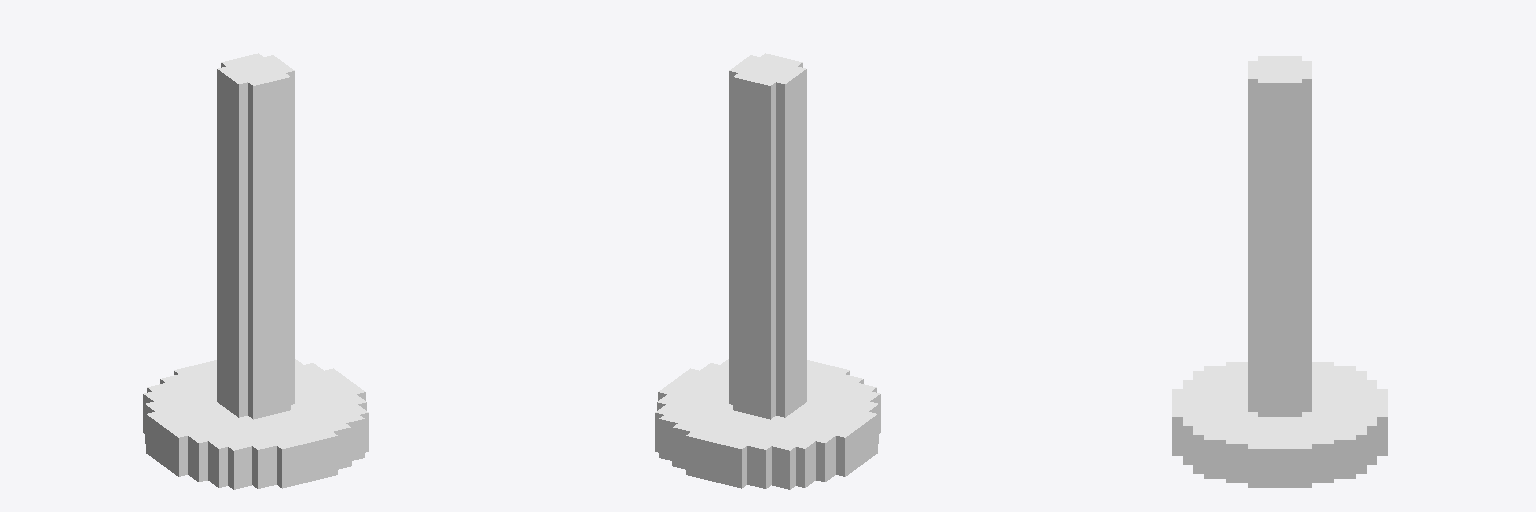
Rendered from SlammerMESH1.obj.
3 views of the same model, side by side, from view 1: azimuth 30°, elevation 25°; view 2: azimuth 150°, elevation 25°; view 3: azimuth 270°, elevation 25° (orthographic).
Parts seen in each view (by area): view 1: SlammerMESH1; view 2: SlammerMESH1; view 3: SlammerMESH1.
Part boxes in pixels (left/top/right/bottom): SlammerMESH1: left=143, top=53, right=368, bottom=489; SlammerMESH1: left=655, top=53, right=880, bottom=489; SlammerMESH1: left=1172, top=56, right=1387, bottom=487.
Bounding box in the file's own units: 2 × 3.8 × 2.